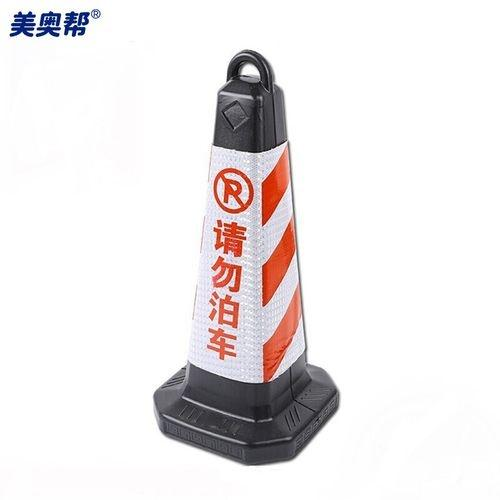cone_barrel: (153, 48, 345, 462)
